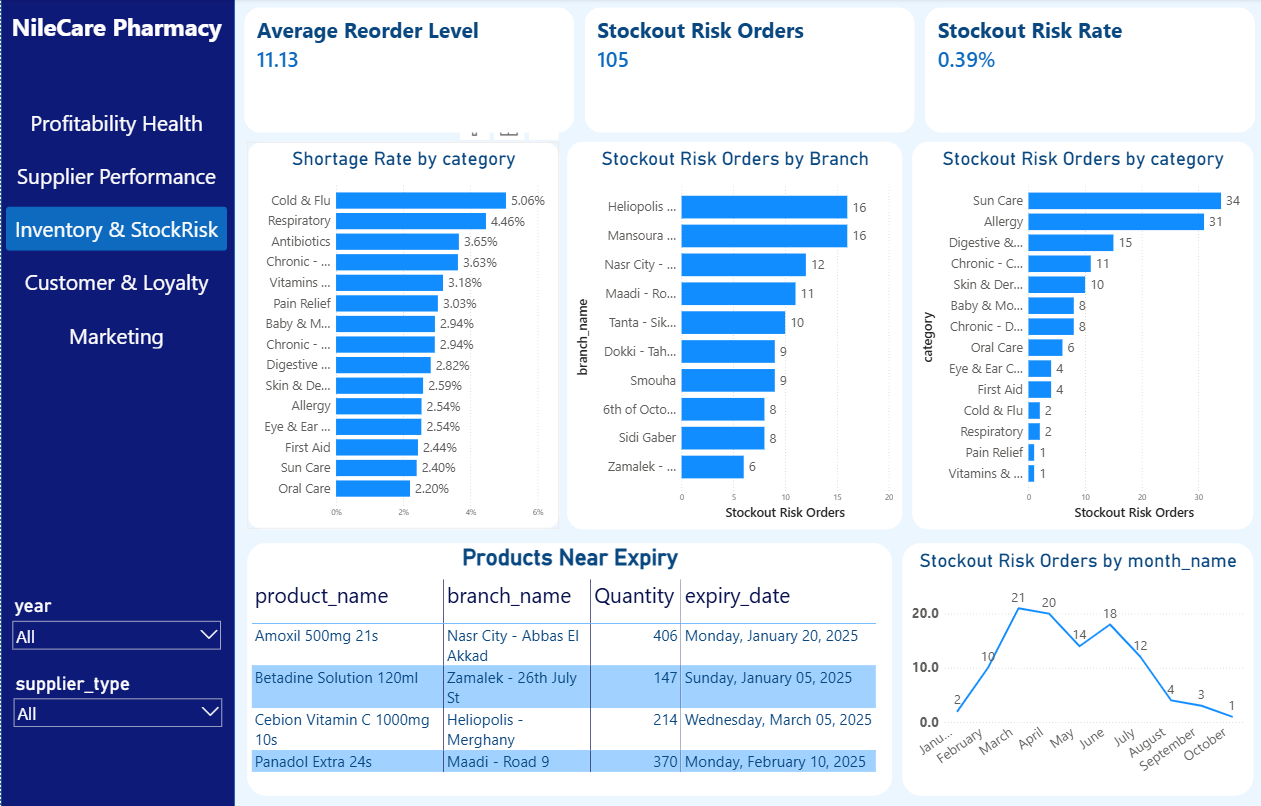

This screenshot's page, from the dashboard's own definition file:
{"tool":"powerbi","page":{"name":"Inventory & StockRisk","canvas":[2000,1280],"ordinal":2},"visuals":[{"type":"shape","box":[0,0,370,1300],"z":0},{"type":"textbox","box":[0,15.8,376,71.2],"z":1000},{"type":"pageNavigator","box":[7.9,162.3,350,409.6],"z":2000},{"type":"clusteredBarChart","title":"Stockout Risk Orders by Branch","fields":{"Category":["dwh dim_branch.branch_name"],"Y":["Measures .Stockout Risk Orders"]},"box":[896.5,227.6,530.4,613.5],"z":3000},{"type":"clusteredBarChart","fields":{"Category":["dwh dim_product.category"],"Y":["Measures .Shortage Rate"]},"box":[389.9,227.6,494.7,613.5],"z":4000},{"type":"cardVisual","fields":{"Data":["Measures .Average Reorder Level","Measures .Stockout Risk Orders","Measures .Stockout Risk Rate"]},"box":[370,0,1630,228],"z":5000},{"type":"lineChart","fields":{"Category":["dwh dim_date.month_name"],"Y":["Measures .Stockout Risk Orders"]},"box":[1426.8,862.8,556.1,399.8],"z":6000},{"type":"clusteredBarChart","fields":{"Category":["dwh dim_product.category"],"Y":["Measures .Stockout Risk Orders"]},"box":[1442.7,227.6,540.3,613.5],"z":7000},{"type":"tableEx","title":"Products Near Expiry","fields":{"Values":["dwh fact_stock_expiry_estimate.product_name","dwh fact_stock_expiry_estimate.branch_name","Sum(dwh fact_stock_expiry_estimate.estimated_remaining_stock)","dwh fact_stock_expiry_estimate.latest_batch_expiry_date"]},"box":[389.9,862.8,1021.2,399.8],"z":8000},{"type":"slicer","fields":{"Values":["dwh dim_date.year_number"]},"box":[7.9,940,350.3,122.7],"z":9000},{"type":"slicer","fields":{"Values":["dwh dim_supplier.supplier_type"]},"box":[9.9,1062.7,350.3,138.5],"z":10000}]}

Visuals, with their boxes on the page's 2000x1280 design canvas (x1, y1, x2, y2). These are canvas units, not pixel positions in the 1261x806 screenshot, which may show the page scaled, cropped or inside an application window:
shape: [0,0,370,1300]
textbox: [0,16,376,87]
pageNavigator: [8,162,358,572]
"Stockout Risk Orders by Branch" clusteredBarChart: [896,228,1427,841]
clusteredBarChart - dwh dim_product.category x Measures .Shortage Rate: [390,228,885,841]
cardVisual - Measures .Average Reorder Level x Measures .Stockout Risk Orders: [370,0,2000,228]
lineChart - dwh dim_date.month_name x Measures .Stockout Risk Orders: [1427,863,1983,1263]
clusteredBarChart - dwh dim_product.category x Measures .Stockout Risk Orders: [1443,228,1983,841]
"Products Near Expiry" tableEx: [390,863,1411,1263]
slicer - dwh dim_date.year_number: [8,940,358,1063]
slicer - dwh dim_supplier.supplier_type: [10,1063,360,1201]
